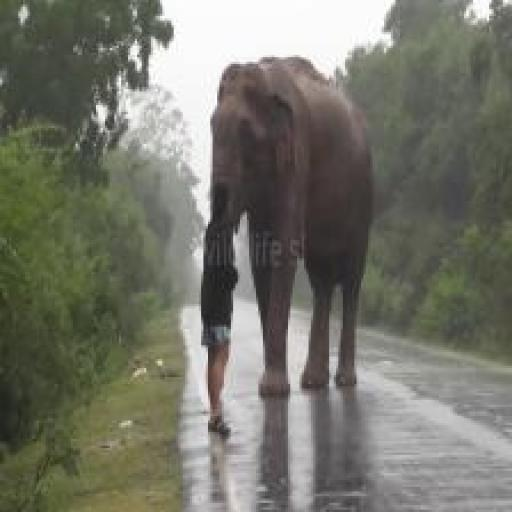Elephant: (201, 41, 388, 439)
